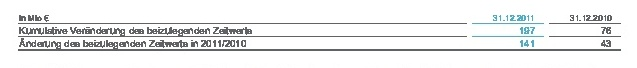table: (0, 0, 637, 68)
